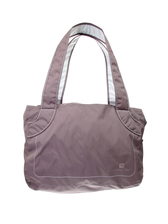bag: (15, 21, 153, 193)
